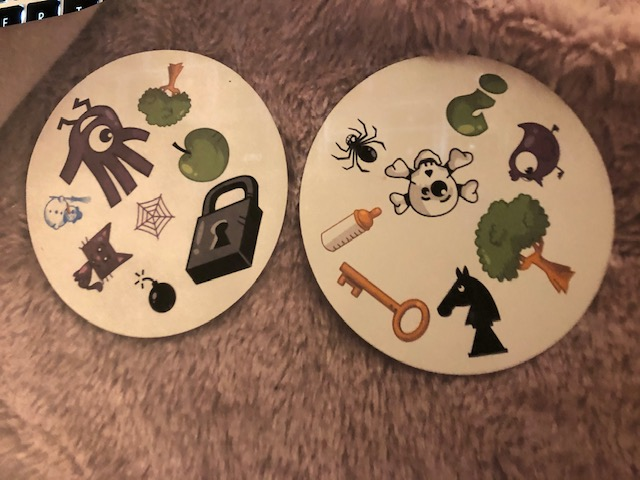araignee: (326, 112, 389, 179)
arbre: (473, 190, 581, 296), (133, 56, 194, 126)
biberon: (319, 202, 386, 257)
bombe: (130, 265, 181, 315)
bonhomme_neige: (39, 185, 92, 234)
cadenas: (182, 165, 265, 286)
chat: (69, 221, 135, 294)
cheval: (434, 266, 515, 359)
cle: (331, 255, 436, 341)
dooble: (47, 92, 157, 203)
oiseau: (507, 119, 567, 188)
point_interrogation: (444, 70, 511, 137)
pomme: (170, 125, 232, 184)
tete_mort: (375, 138, 484, 220)
toile: (130, 188, 177, 243)
